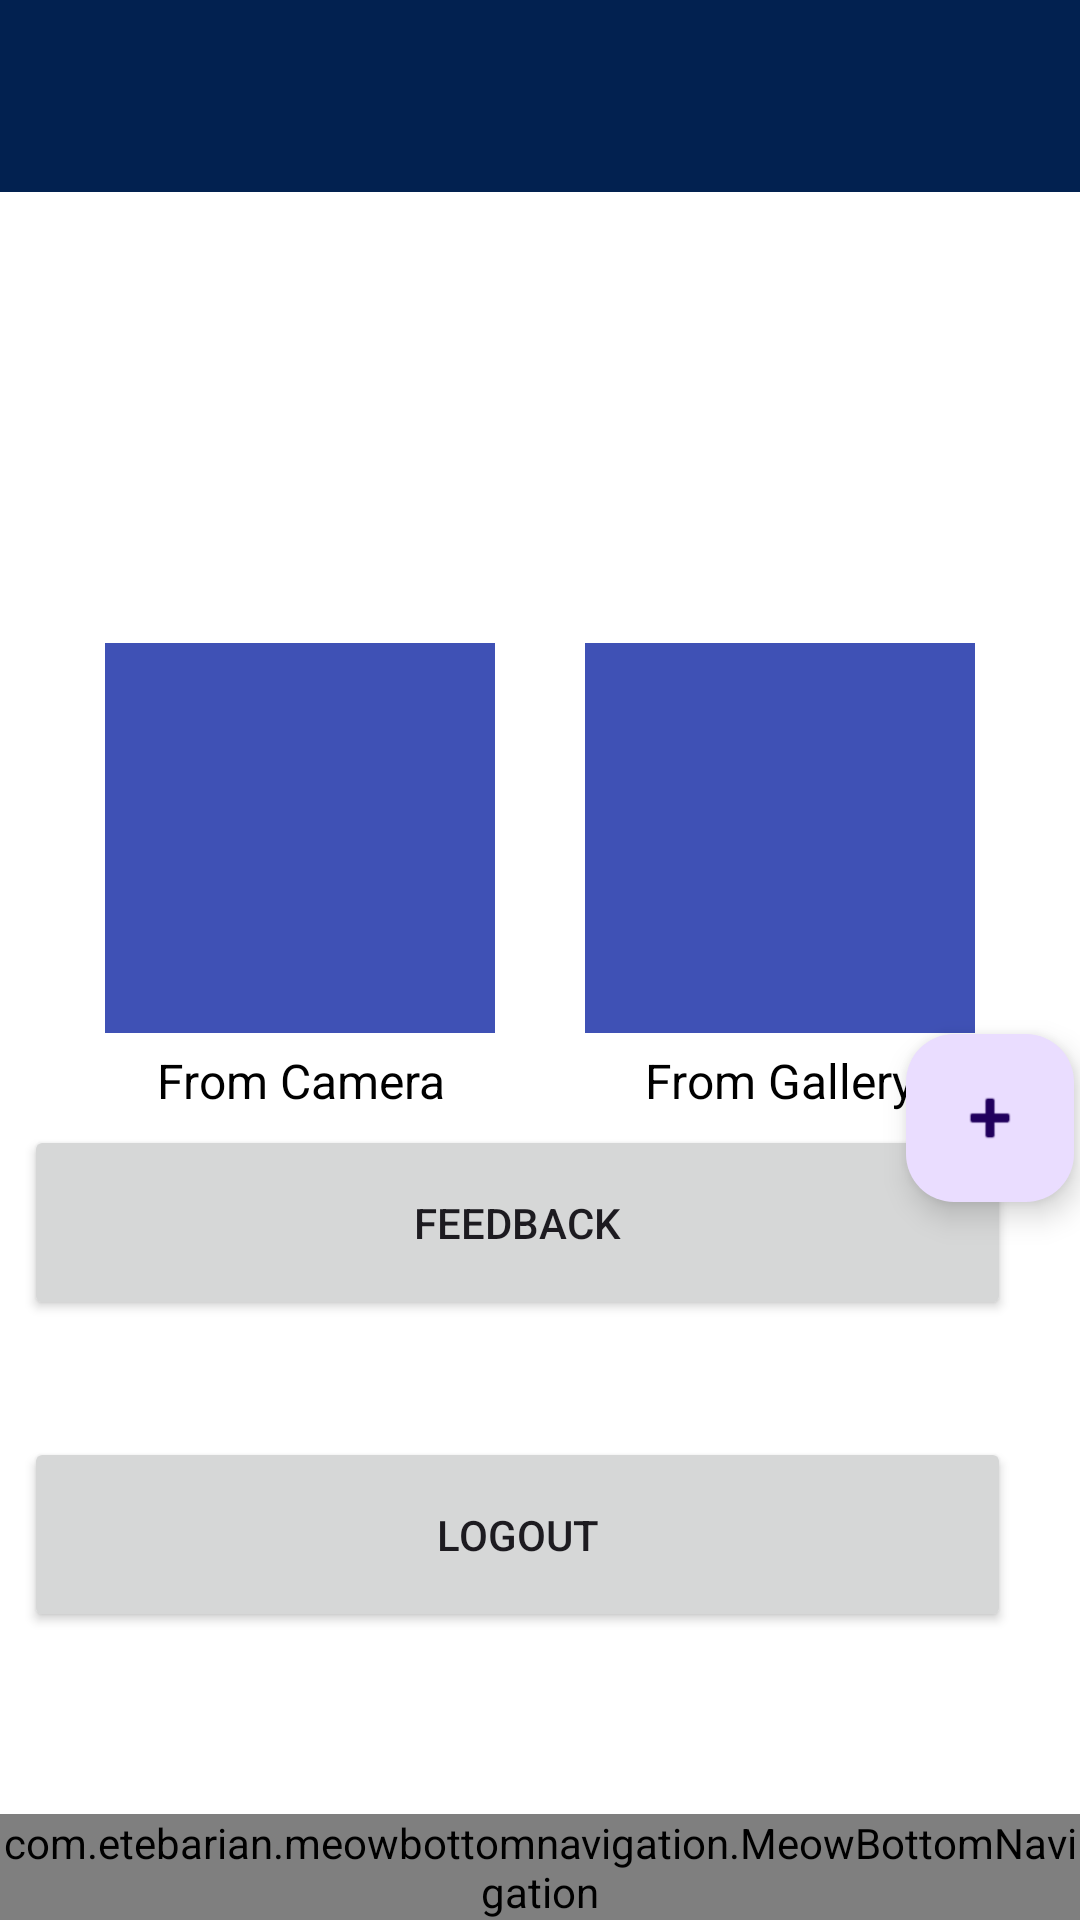

Point at icon controls on the screen. Image size 1080 × 1920, points as (x,y).
float: (990,1118)
